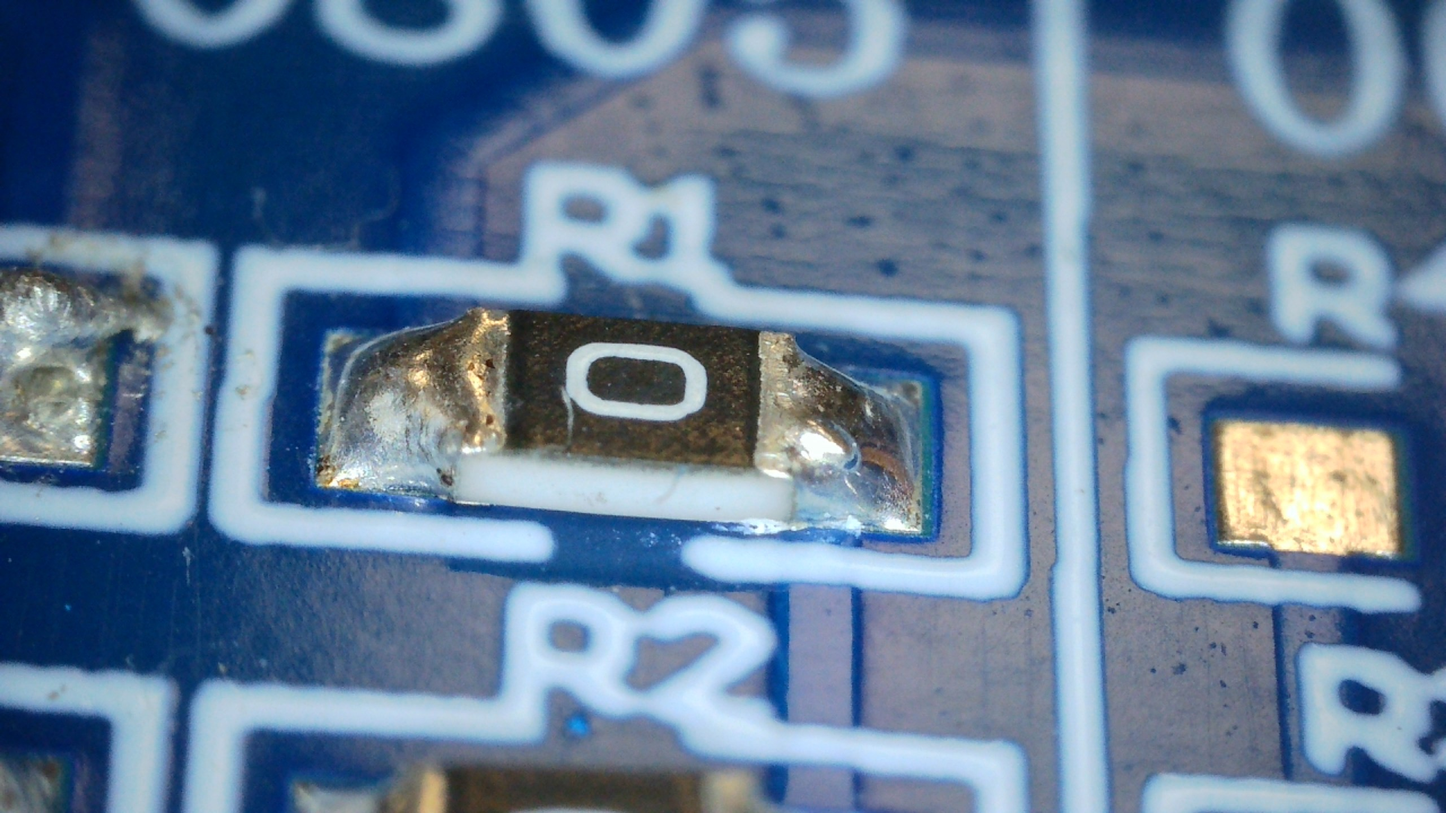NG: (317, 307, 509, 498), (755, 331, 914, 527), (793, 417, 857, 474)
